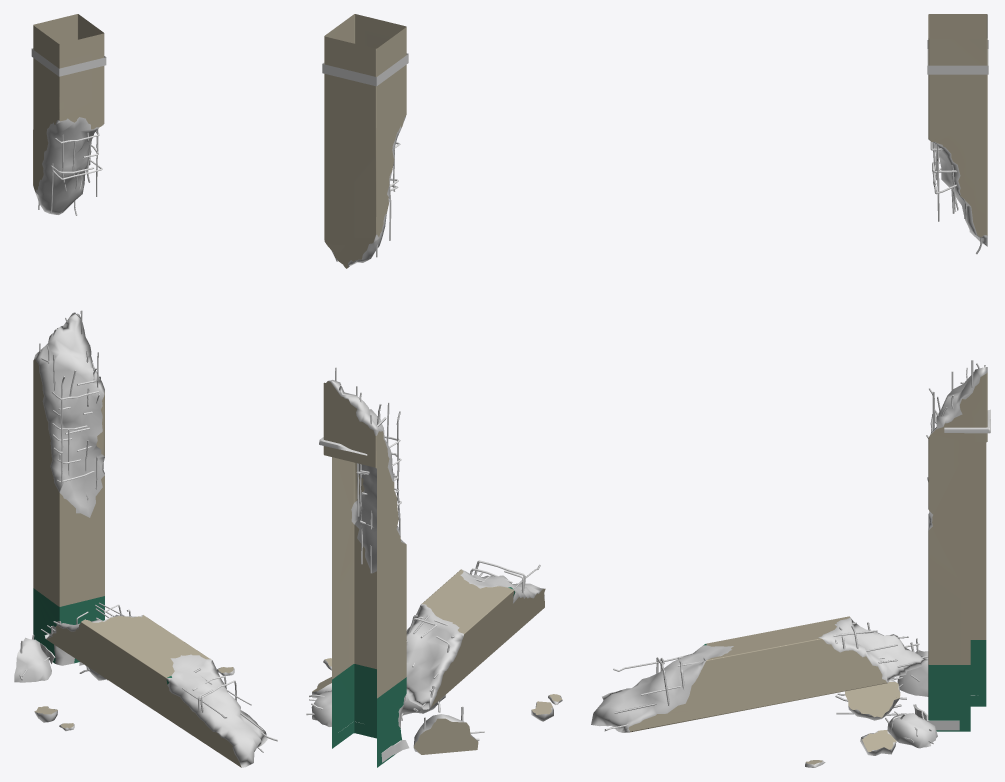
File: SM_H_Building_Tide_MedicalRoom_01D_ATLAS.fbx
3 renders of one model, left to right at view 1: azimuth 30°, elevation 25°; view 2: azimuth 150°, elevation 25°; view 3: azimuth 270°, elevation 25°, orthographic. The views are drawn at different scales.
Parts seen in each view (by area): view 1: SM_H_Building_Tide_MedicalRoom_01D_ATLAS; view 2: SM_H_Building_Tide_MedicalRoom_01D_ATLAS; view 3: SM_H_Building_Tide_MedicalRoom_01D_ATLAS.
Part boxes in pixels (x1=…): SM_H_Building_Tide_MedicalRoom_01D_ATLAS: x1=14, y1=14, x2=277, y2=767; SM_H_Building_Tide_MedicalRoom_01D_ATLAS: x1=306, y1=14, x2=562, y2=767; SM_H_Building_Tide_MedicalRoom_01D_ATLAS: x1=591, y1=14, x2=990, y2=767.
Size of the model in its own units: 430 by 677 by 1295.
